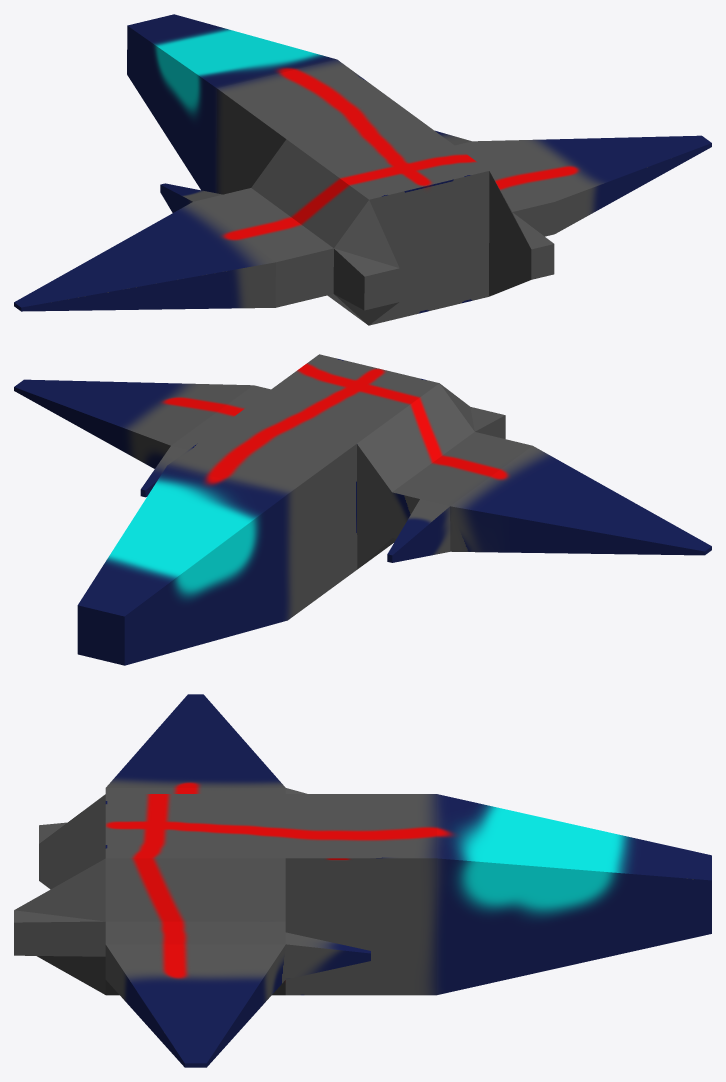
The model's file is enemy3.obj.
3 views of the same model, one above another, from view 1: azimuth 30°, elevation 25°; view 2: azimuth 150°, elevation 25°; view 3: azimuth 270°, elevation 25° (orthographic). The views are drawn at different scales.
Parts seen in each view (by area): view 1: Cube; view 2: Cube; view 3: Cube.
Boxes of the visible parts, <box> form: Cube: <box>14,14,711,325</box>; Cube: <box>14,354,711,665</box>; Cube: <box>14,694,711,1067</box>.
Bounding box in the file's own units: 11.46 × 2.01 × 9.23.
1 material, 1 textured.
